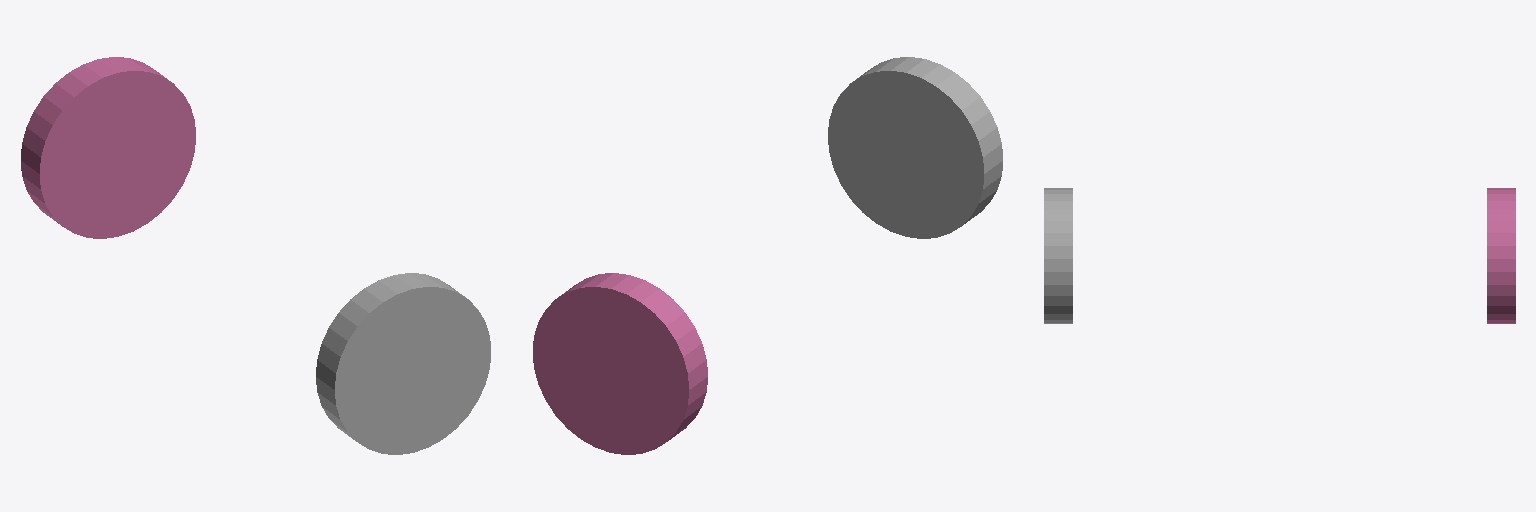
robot.urdf — asn_robot:
<?xml version="1.0"?>
<robot name="asn_robot">

  <link name="base_link"/>
  <link name="laser_frame"/>
  <link name="camera_link"/>
  <link name="camera_optical_frame"/>
  <link name="wheel_drop_left">
    <inertial>
      <mass value="0.0500000007"/>
      <inertia ixx="2.08333331e-05" ixy="0" ixz="0" iyy="2.08333331e-05" iyz="0" izz="2.08333331e-05"/>
    </inertial>
  </link>
  <link name="wheel_drop_right">
    <inertial>
      <mass value="0.0500000007"/>
      <inertia ixx="2.08333331e-05" ixy="0" ixz="0" iyy="2.08333331e-05" iyz="0" izz="2.08333331e-05"/>
    </inertial>
  </link>
  <link name="left_wheel">
    <inertial>
      <mass value="0.200000003"/>
      <inertia ixx="6.76531272e-05" ixy="0" ixz="0" iyy="6.76531272e-05" iyz="0" izz="0.000127806255"/>
    </inertial>
    <visual name="visuals">
      <origin xyz="0 0 0" rpy="0 -1.57079627 0"/>
      <geometry>
        <cylinder radius="0.0357500017" length="0.0149999997"/>
      </geometry>
    </visual>
    <collision name="collisions">
      <origin xyz="0 0 0" rpy="0 -1.57079627 0"/>
      <geometry>
        <cylinder radius="0.0357500017" length="0.0149999997"/>
      </geometry>
    </collision>
  </link>
  <link name="right_wheel">
    <inertial>
      <mass value="0.200000003"/>
      <inertia ixx="6.76531272e-05" ixy="0" ixz="0" iyy="6.76531272e-05" iyz="0" izz="0.000127806255"/>
    </inertial>
    <visual name="visuals">
      <origin xyz="0 0 0" rpy="0 -1.57079627 0"/>
      <geometry>
        <cylinder radius="0.0357500017" length="0.0149999997"/>
      </geometry>
    </visual>
    <collision name="collisions">
      <origin xyz="0 0 0" rpy="0 -1.57079627 0"/>
      <geometry>
        <cylinder radius="0.0357500017" length="0.0149999997"/>
      </geometry>
    </collision>
  </link>




  <joint name="wheel_drop_left_joint" type="prismatic">
    <origin xyz="0 0.116499998 0.0401999988" rpy="0 -1.57079624 1.57079627"/>
    <parent link="base_link"/>
    <child link="wheel_drop_left"/>
    <axis xyz="-1 0 0"/>
    <limit lower="0" upper="0.0299999993" effort="3.40282347e+38" velocity="0.1"/>
    <dynamics friction="0.100000001"/>
  </joint>
  <joint name="wheel_drop_right_joint" type="prismatic">
    <origin xyz="0 -0.116499998 0.0401999988" rpy="0 -1.57079624 1.57079627"/>
    <parent link="base_link"/>
    <child link="wheel_drop_right"/>
    <axis xyz="-1 0 0"/>
    <limit lower="0" upper="0.0299999993" effort="3.40282347e+38" velocity="0.1"/>
    <dynamics friction="0.100000001"/>
  </joint>
  <joint name="left_wheel_joint" type="continuous">
    <origin xyz="0 0 0" rpy="0 -1.57079623 1.57079627"/>
    <parent link="wheel_drop_left"/>
    <child link="left_wheel"/>
    <axis xyz="-1 0 0"/>
    <limit effort="3.40282347e+38" velocity="0.1" />
    <dynamics friction="0"/>
  </joint>
  <joint name="right_wheel_joint" type="continuous">
    <origin xyz="0 0 0" rpy="0 -1.57079623 1.57079627"/>
    <parent link="wheel_drop_right"/>
    <child link="right_wheel"/>
    <axis xyz="-1 0 0"/>
    <limit effort="3.40282347e+38" velocity="0.1"/>
    <dynamics friction="0"/>
  </joint>
  <joint name="base_to_laser" type="fixed">
    <parent link="base_link"/>
    <child link="laser_frame"/>
    <origin xyz="-0.04 0 0.193" rpy="0 0 0"/>
  </joint>
  <joint name="base_to_camera_link" type="fixed">
    <parent link="base_link"/>
    <child link="camera_link"/>
    <origin xyz="0 0 0.3" rpy="0 0 0"/>
  </joint>
  <joint name="camera_link_to_camera_frame" type="fixed">
    <parent link="camera_link"/>
    <child link="camera_optical_frame"/>
    <origin xyz="0 0 0" rpy="-1.570796 0 -1.570796"/>
  </joint>


  
</robot>

--- What the picture shows (computed from the rendered views, not written in the file) ---
Views: 3 orthographic renders of the robot side by side, from view 1: azimuth 30°, elevation 25°; view 2: azimuth 150°, elevation 25°; view 3: azimuth 270°, elevation 25°.
Model asn_robot with 8 links and 7 joints (2 continuous, 2 prismatic, 3 fixed), rooted at base_link, posed every joint at zero.
Visible links, largest first — view 1: left_wheel, right_wheel; view 2: left_wheel, right_wheel; view 3: left_wheel, right_wheel.
Boxes of the visible links, bbox=[...] form: left_wheel: bbox=[21, 57, 195, 238]; right_wheel: bbox=[316, 273, 490, 454]; left_wheel: bbox=[533, 273, 707, 454]; right_wheel: bbox=[828, 57, 1002, 238]; left_wheel: bbox=[1487, 188, 1515, 323]; right_wheel: bbox=[1044, 188, 1072, 323].
Bounding box of the posed robot: 0.0715 × 0.248 × 0.0715 m (x, y, z).
Geometry: primitives only (box / cylinder / sphere), no mesh files.
